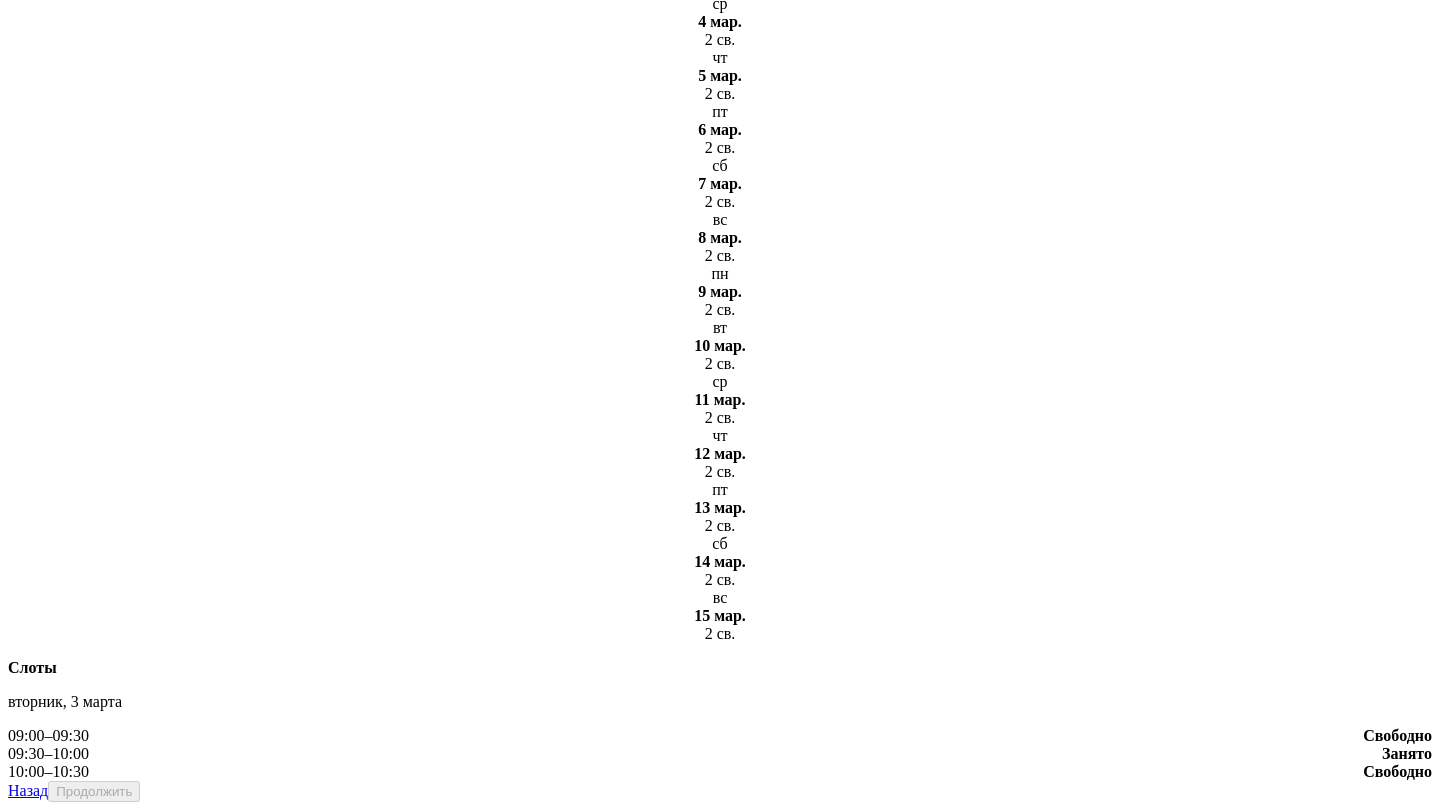
если сервер отклонил телефон, гость видит ошибку у поля и остаётся в форме
(page scrolled)
Click the button "09:00–09:30 Свободно" at (48, 735), box [8,727,1432,745]
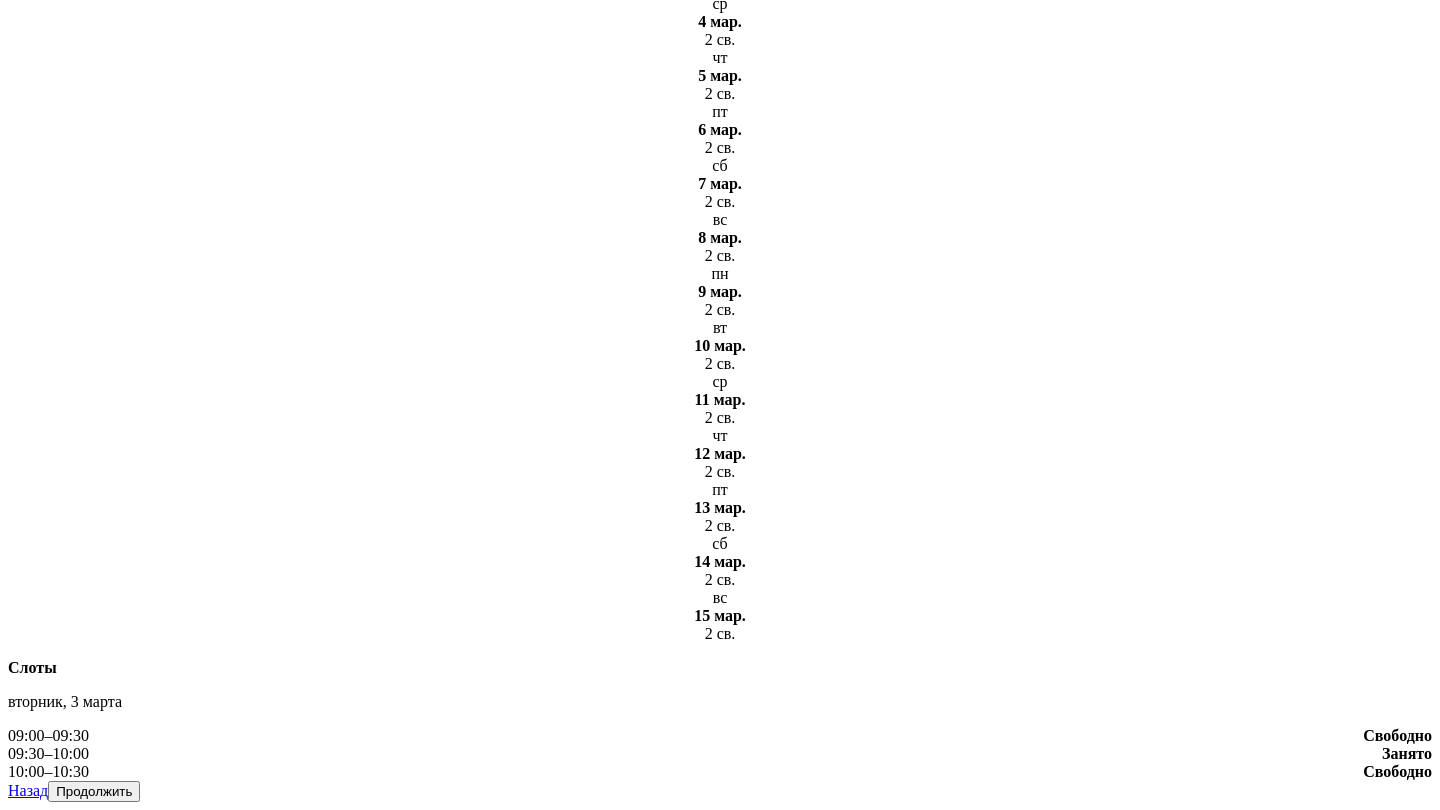
Click the button "Продолжить" at (94, 791), box [48,781,140,802]
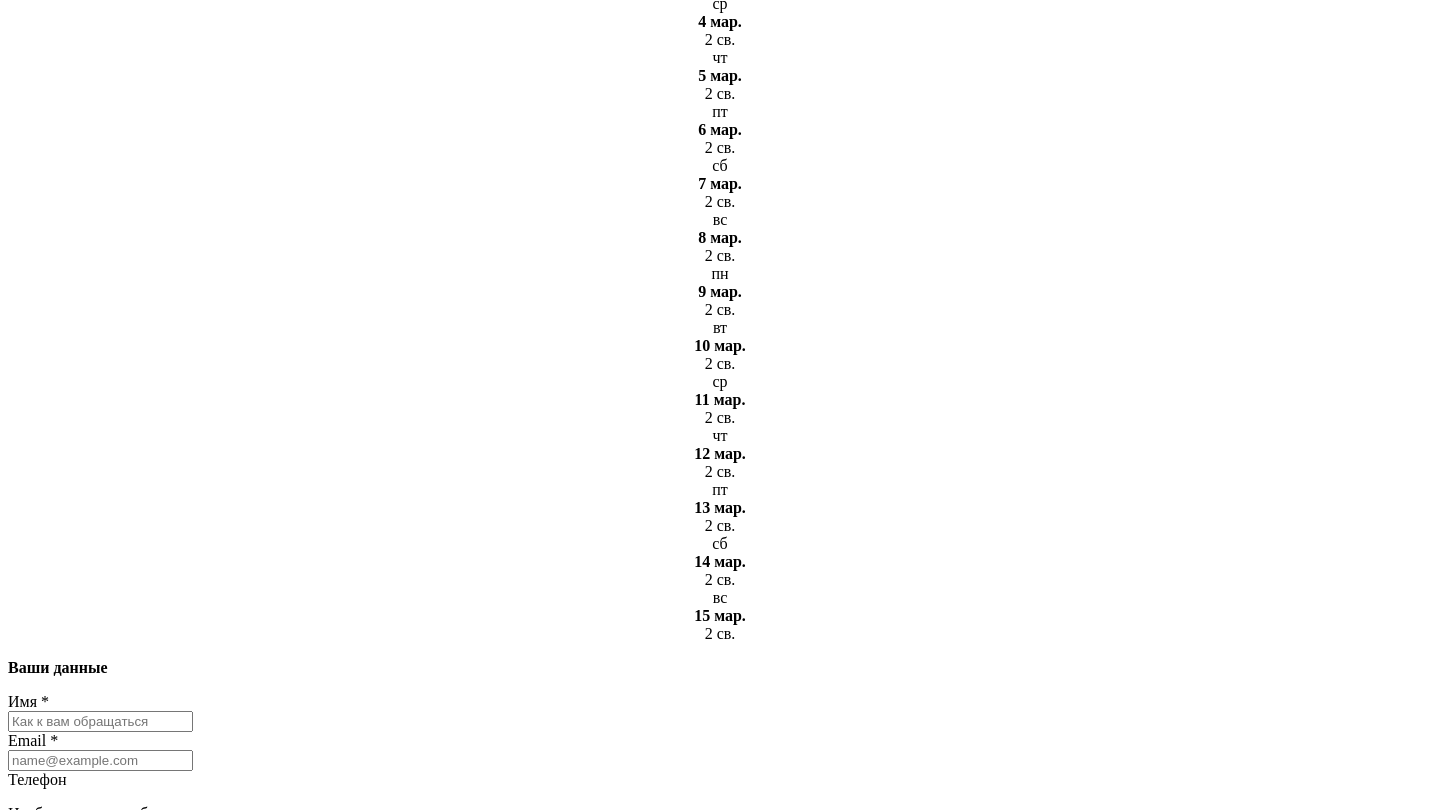
Type "Анна Гостева" into the field labelled "Имя *" at (100, 721), box [8,711,193,732]
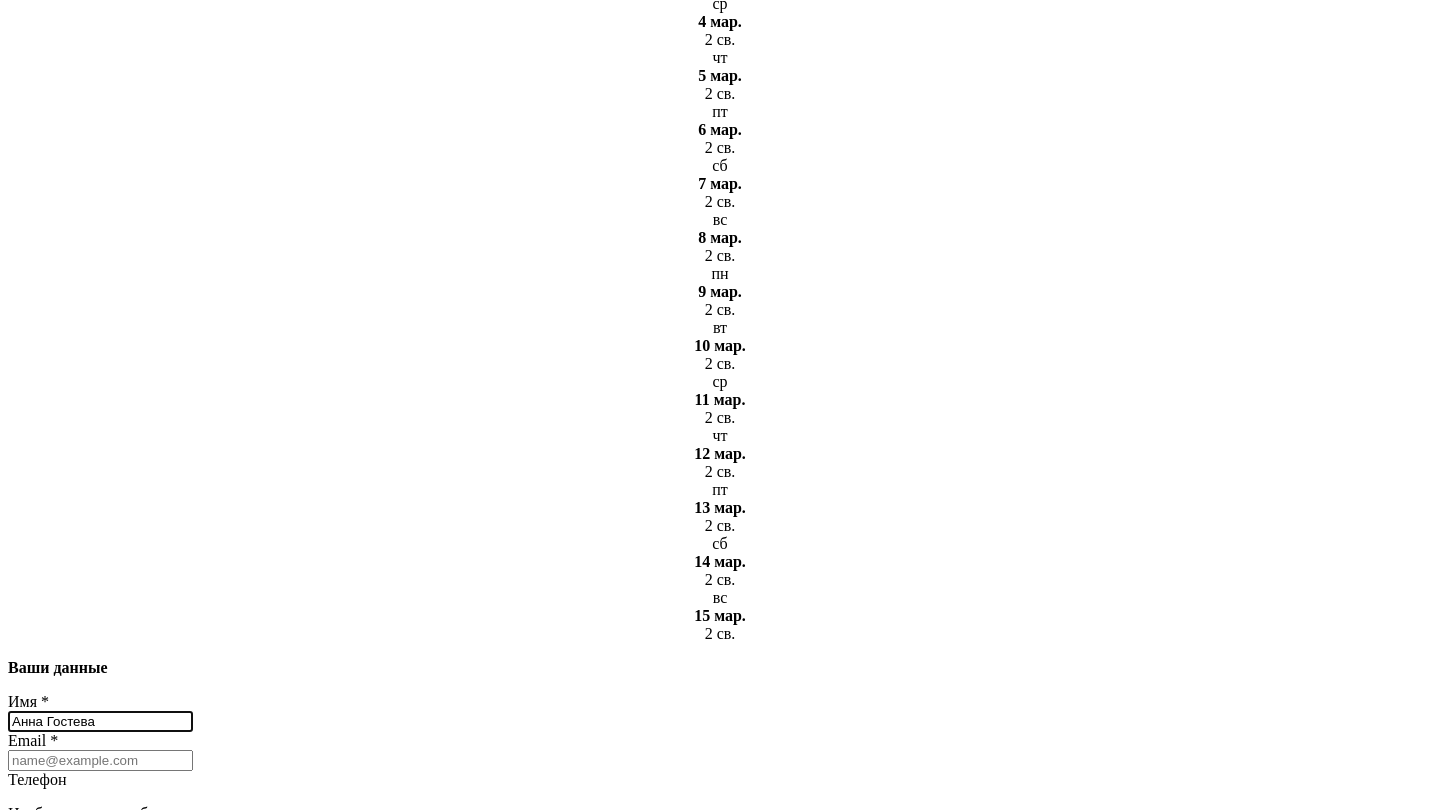
Type "anna@example.com" into the field labelled "Email *" at (100, 760), box [8,750,193,771]
(page scrolled)
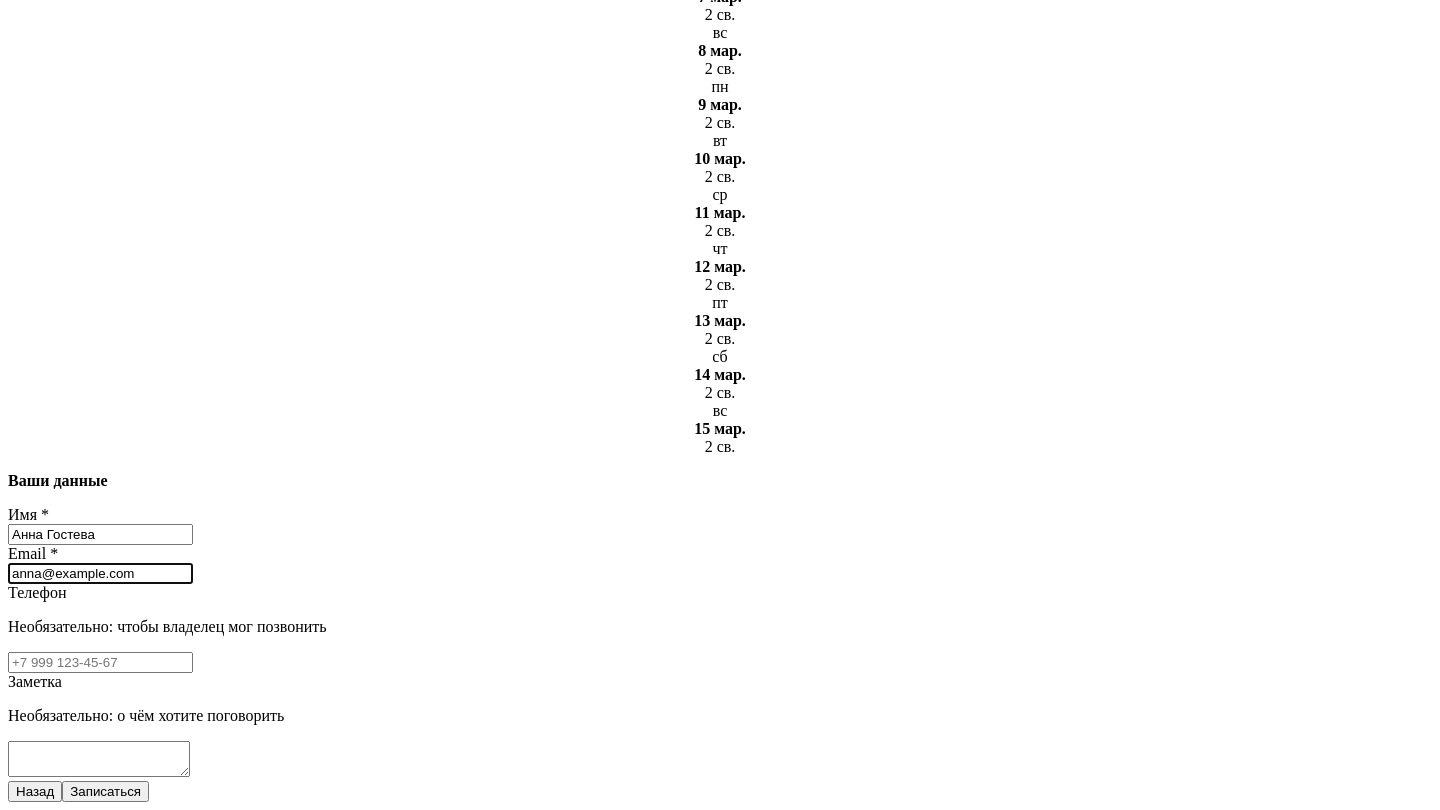
Type "123" into the field labelled "Телефон" at (100, 662), box [8,652,193,673]
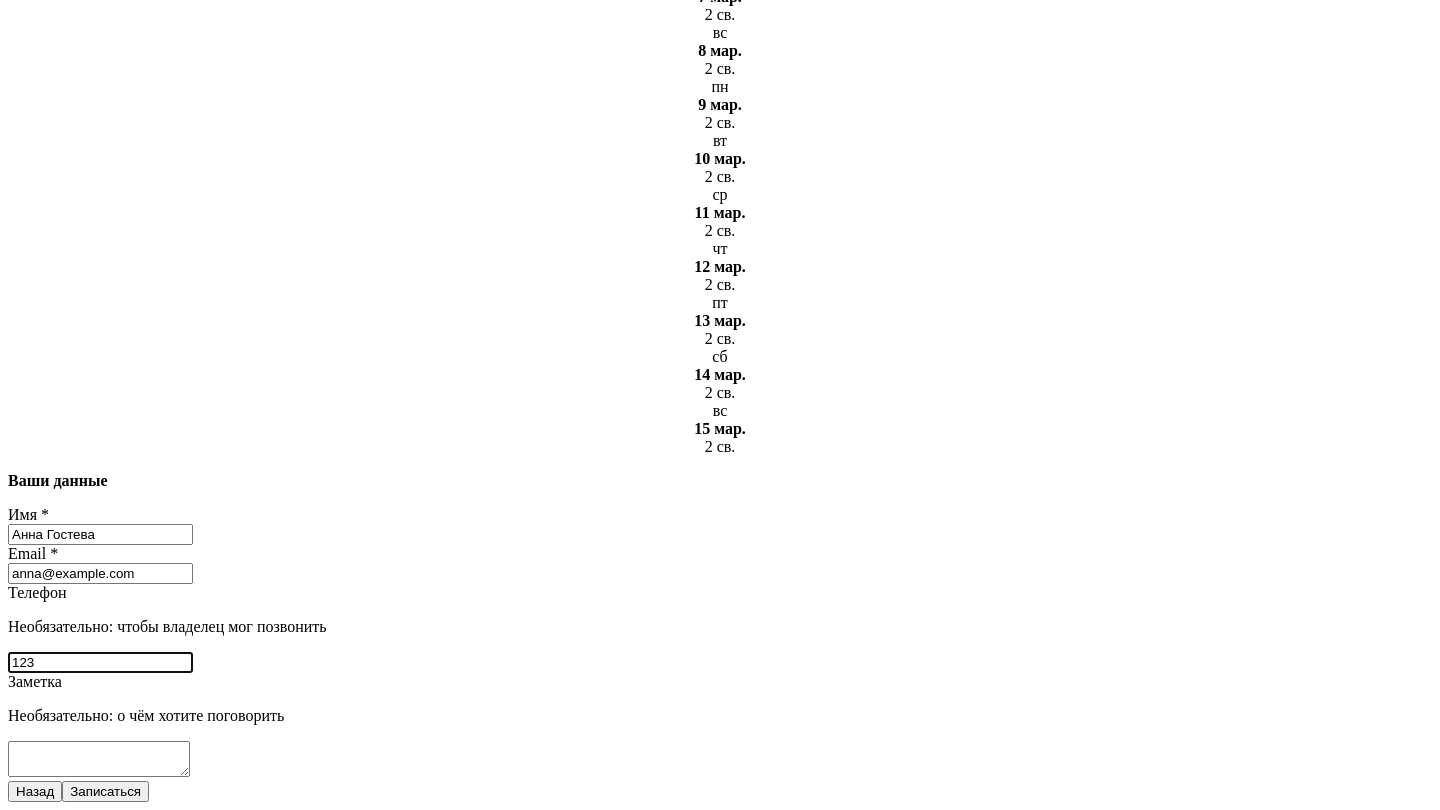
Click the button "Записаться" at (106, 791), box [62,781,149,802]
(page scrolled)
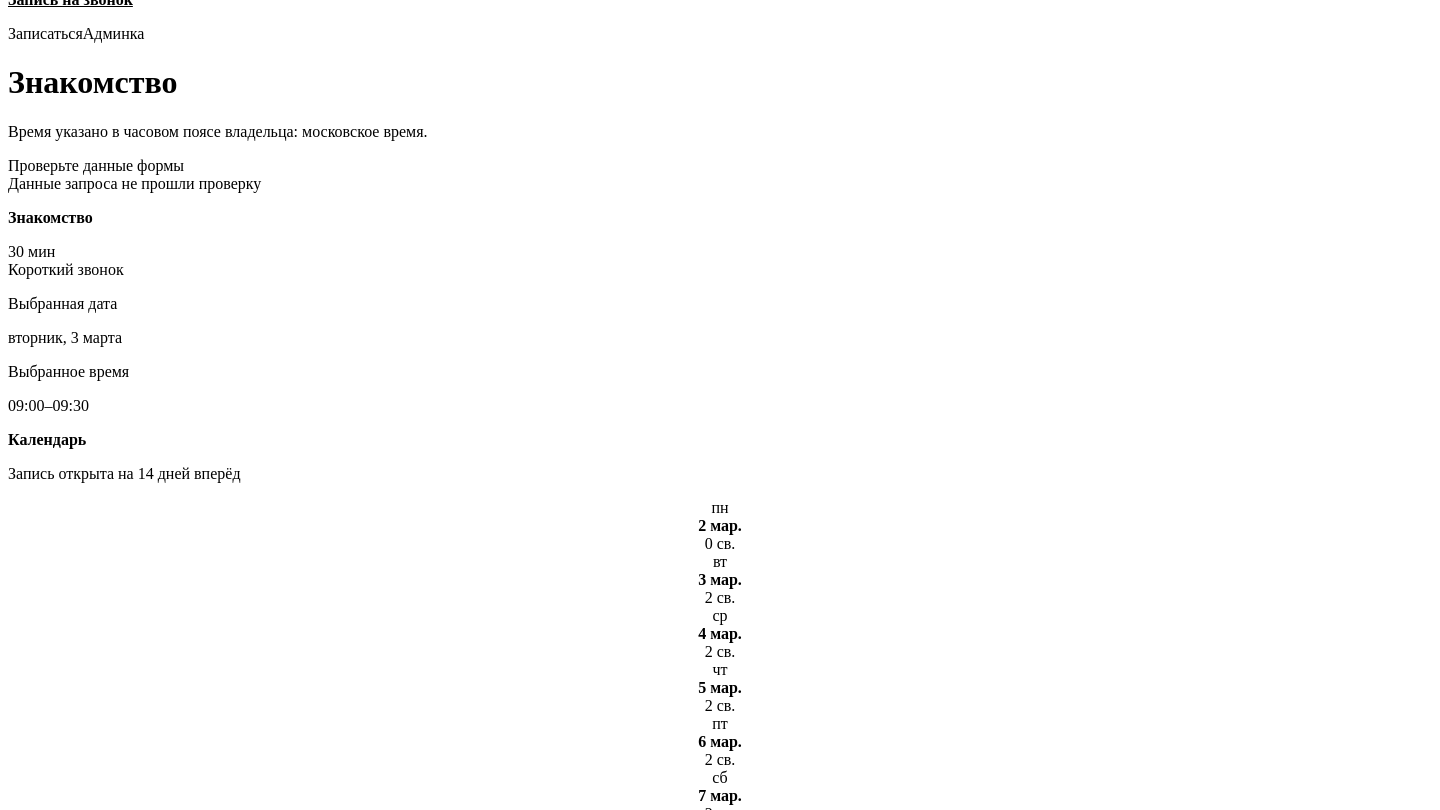
Check: the text "09:00–09:30" is shown, box [8,397,89,414]
Check: the message shows "Проверьте данные формы", box [8,157,184,174]
